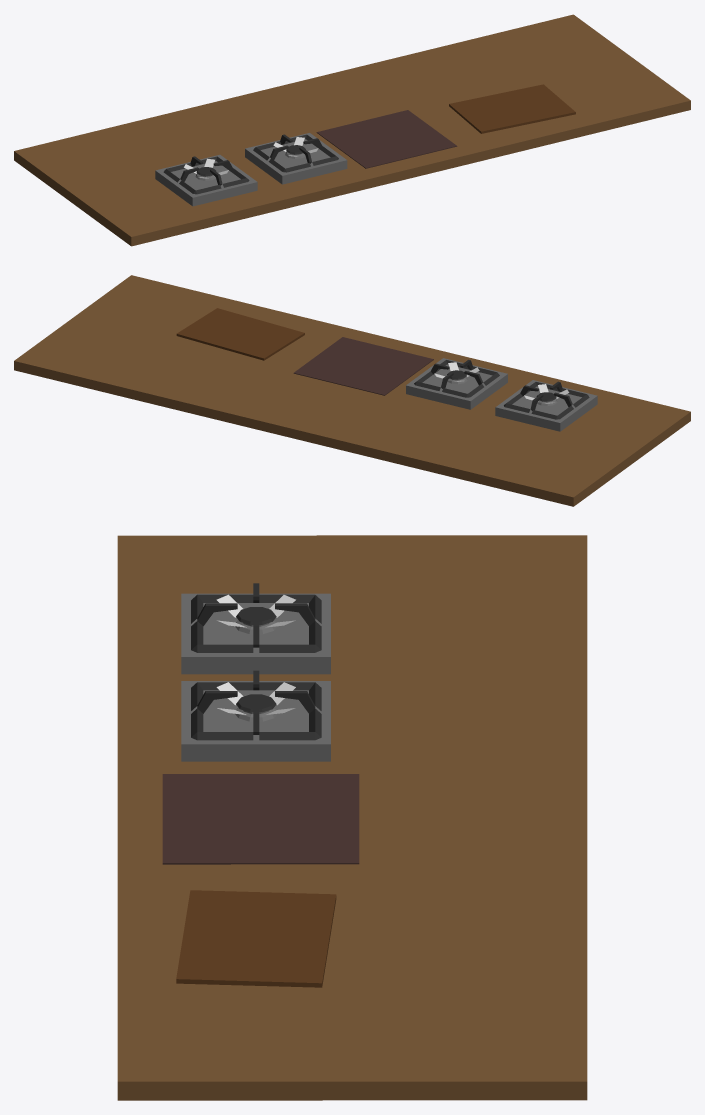
File: Table.glb
The picture shows the model from 3 angles, top to bottom: view 1: azimuth 30°, elevation 25°; view 2: azimuth 150°, elevation 25°; view 3: azimuth 270°, elevation 25°; orthographic projection. The views are drawn at different scales.
Parts seen in each view (by area): view 1: Cube, Cube.004, Cube.001, Cube.002, Cube.003; view 2: Cube, Cube.004, Cube.001, Cube.003, Cube.002; view 3: Cube, Cube.004, Cube.001, Cube.003, Cube.002.
Boxes of the visible parts, bbox=[...] form: Cube: bbox=[14, 14, 690, 246]; Cube.004: bbox=[316, 110, 457, 168]; Cube.001: bbox=[449, 84, 575, 133]; Cube.002: bbox=[245, 133, 347, 184]; Cube.003: bbox=[155, 154, 257, 206]; Cube: bbox=[14, 275, 690, 506]; Cube.004: bbox=[293, 337, 433, 395]; Cube.001: bbox=[176, 308, 304, 360]; Cube.003: bbox=[495, 380, 597, 431]; Cube.002: bbox=[406, 358, 507, 409]; Cube: bbox=[117, 535, 587, 1100]; Cube.004: bbox=[162, 774, 359, 864]; Cube.001: bbox=[176, 890, 336, 987]; Cube.003: bbox=[181, 583, 330, 674]; Cube.002: bbox=[181, 670, 330, 761].
Bounding box in the file's own units: 3.11 × 0.1512 × 1.13.
